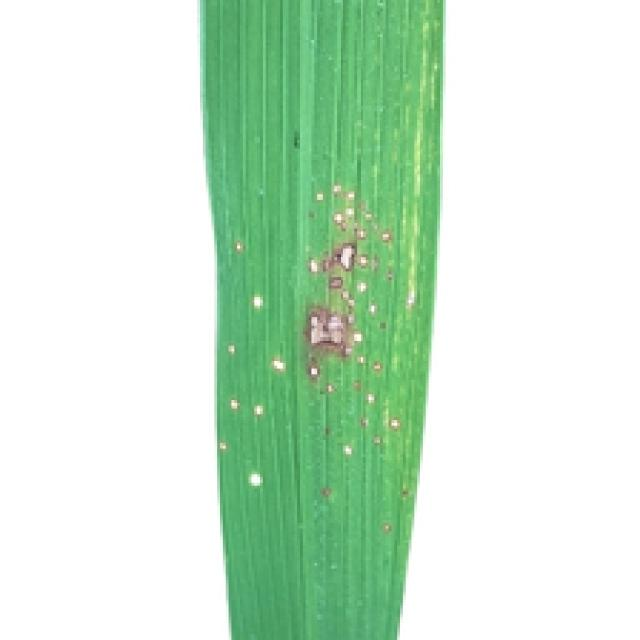Rice___Brown_Spot: (201, 1, 447, 637)
